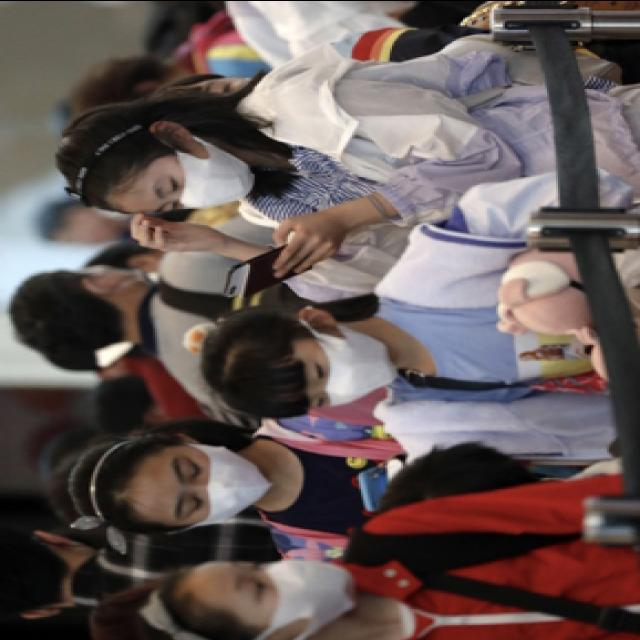with_mask: (284, 323, 404, 413), (159, 442, 277, 530), (224, 560, 358, 634), (144, 133, 257, 215)
